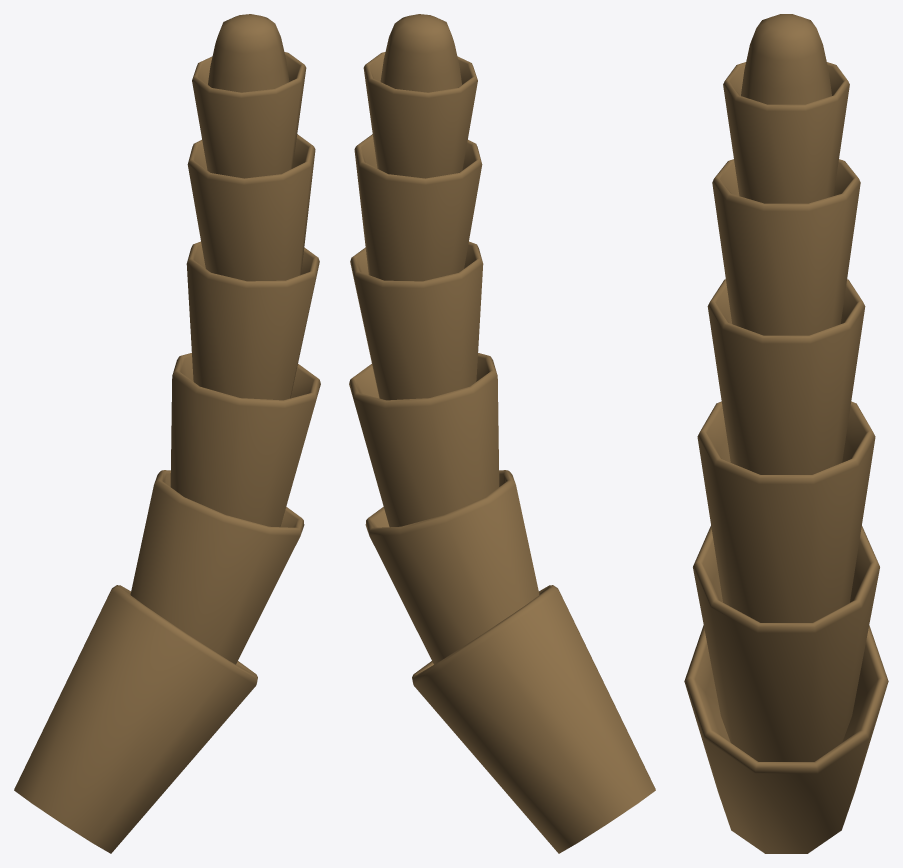
Rendered from palm-stem-3.obj.
3 views of the same model, side by side, from view 1: azimuth 30°, elevation 25°; view 2: azimuth 150°, elevation 25°; view 3: azimuth 270°, elevation 25° (orthographic). The views are drawn at different scales.
Parts seen in each view (by area): view 1: Segment_Cylinder.012, Segment_Cylinder.013, Segment_Cylinder.014, Segment_Cylinder.015, Segment_Cylinder.016, Segment_Cylinder.017, StemTop_Segment_Cylinder_StemTop_Segment_Cylinder.002; view 2: Segment_Cylinder.012, Segment_Cylinder.013, Segment_Cylinder.014, Segment_Cylinder.015, Segment_Cylinder.016, Segment_Cylinder.017, StemTop_Segment_Cylinder_StemTop_Segment_Cylinder.002; view 3: Segment_Cylinder.014, Segment_Cylinder.013, Segment_Cylinder.015, Segment_Cylinder.016, Segment_Cylinder.012, Segment_Cylinder.017, StemTop_Segment_Cylinder_StemTop_Segment_Cylinder.002.
Boxes of the visible parts, x1,y1,x2,y2 form: Segment_Cylinder.012: [14, 585, 257, 853]; Segment_Cylinder.013: [130, 470, 304, 664]; Segment_Cylinder.014: [170, 353, 320, 527]; Segment_Cylinder.015: [186, 241, 319, 400]; Segment_Cylinder.016: [187, 134, 315, 281]; Segment_Cylinder.017: [192, 52, 306, 178]; StemTop_Segment_Cylinder_StemTop_Segment_Cylinder.002: [208, 14, 289, 92]; Segment_Cylinder.012: [412, 585, 655, 853]; Segment_Cylinder.013: [365, 470, 539, 664]; Segment_Cylinder.014: [349, 353, 499, 527]; Segment_Cylinder.015: [350, 241, 483, 400]; Segment_Cylinder.016: [354, 134, 482, 281]; Segment_Cylinder.017: [363, 52, 477, 178]; StemTop_Segment_Cylinder_StemTop_Segment_Cylinder.002: [380, 14, 461, 92]; Segment_Cylinder.014: [697, 401, 875, 622]; Segment_Cylinder.013: [693, 526, 879, 761]; Segment_Cylinder.015: [707, 279, 865, 474]; Segment_Cylinder.016: [712, 159, 860, 335]; Segment_Cylinder.012: [684, 625, 888, 853]; Segment_Cylinder.017: [723, 62, 849, 203]; StemTop_Segment_Cylinder_StemTop_Segment_Cylinder.002: [741, 14, 831, 104].
Bounding box in the file's own units: 1.52 × 4.01 × 0.8098.
